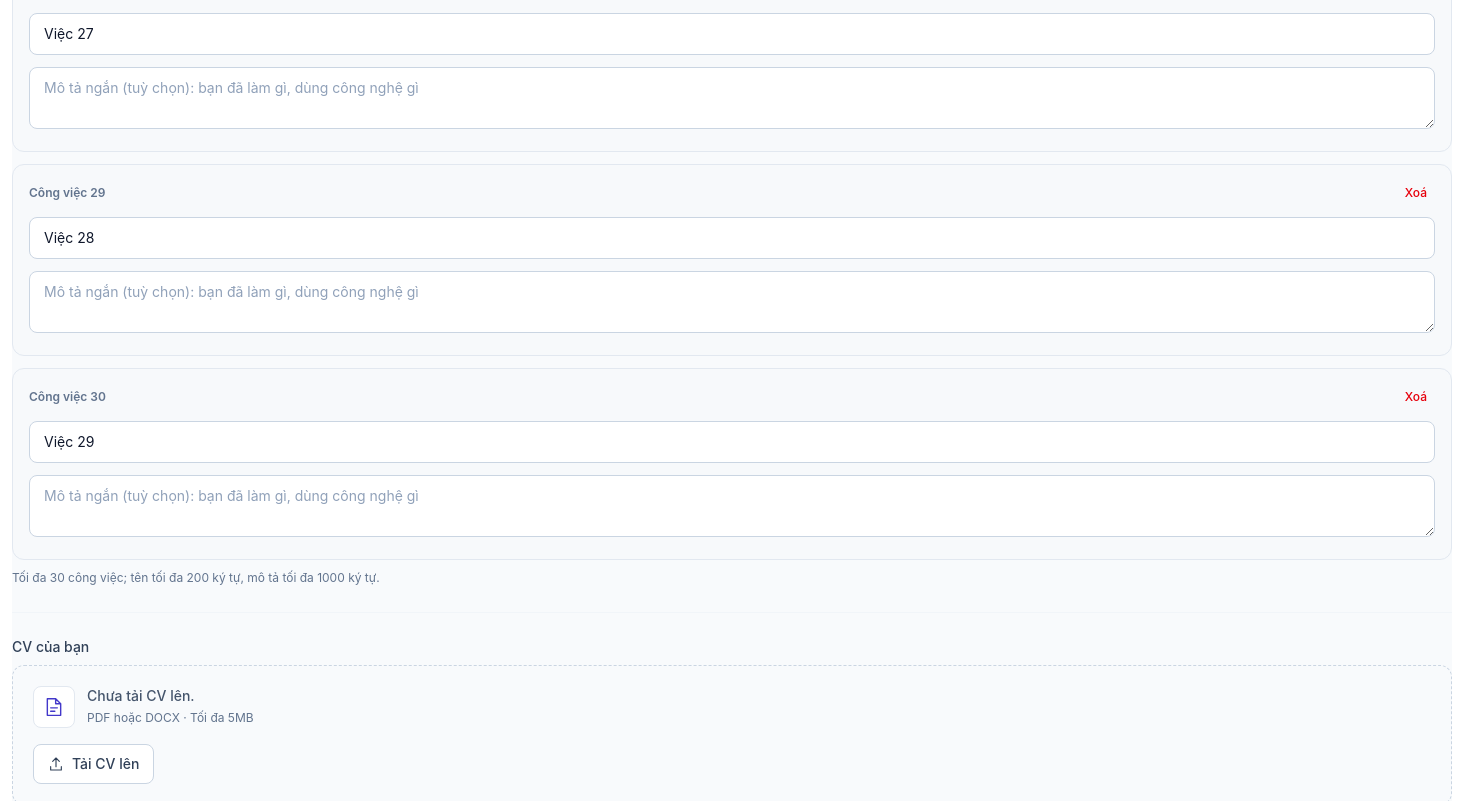
DeclaredProfileSection - sửa và lưu › không thêm quá 30 công việc (nút khoá ở 30)
(page scrolled)
Click the button with aria-label "Xoá công việc 30" at {"x": 1416, "y": 397}, box [1397,385,1435,409]
(page scrolled)
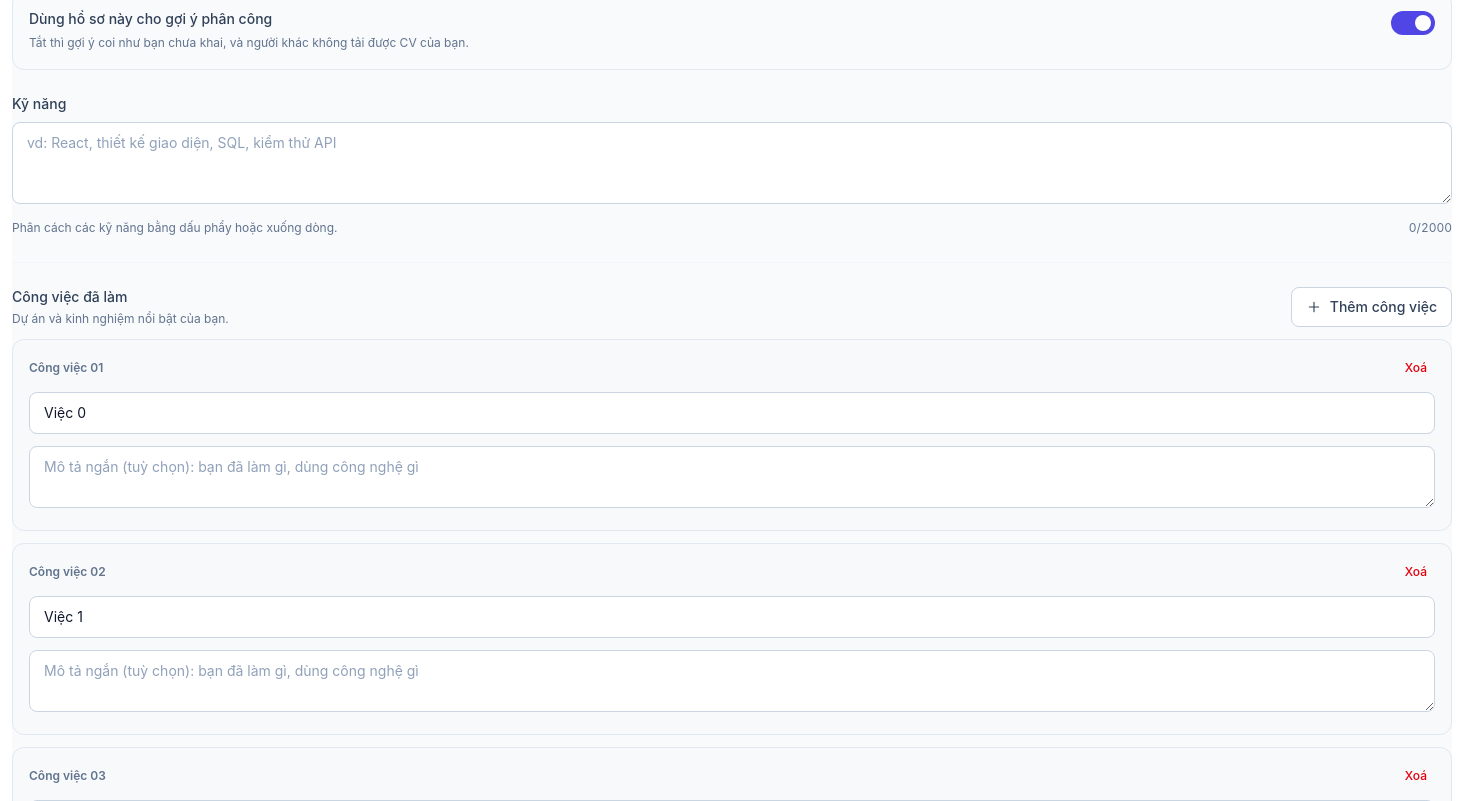
Expected: the button "Thêm công việc" is enabled, [1291,287,1452,327]
